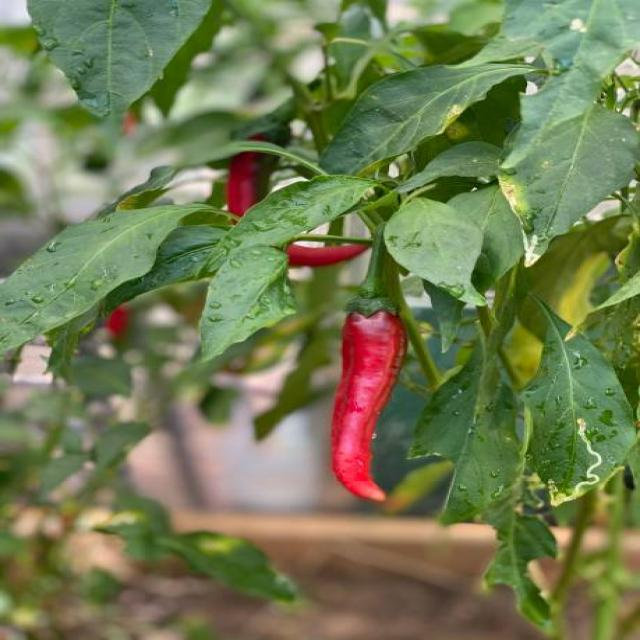Ripe: (332, 311, 406, 501)
